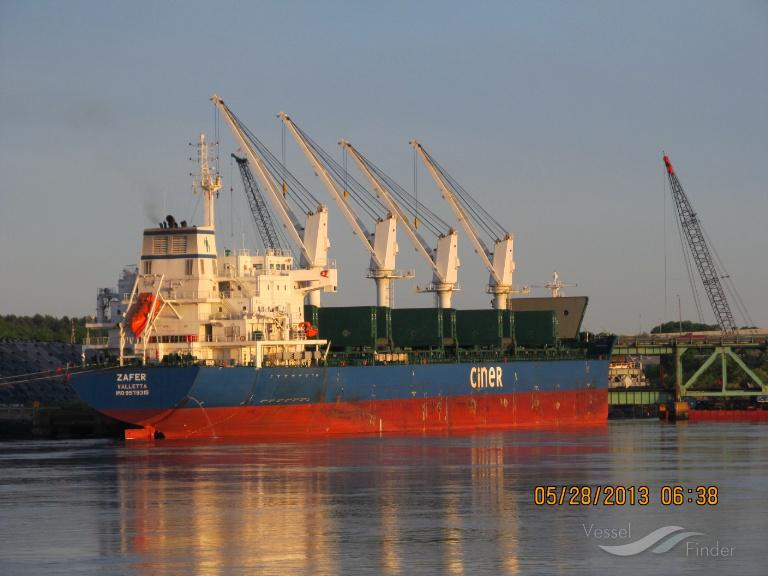OCR: (465, 364, 524, 396), (110, 368, 154, 402)
